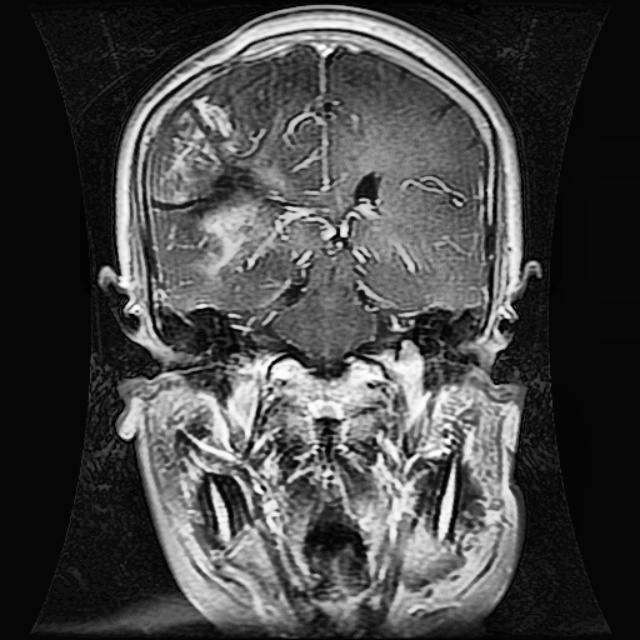Meningioma: (154, 95, 295, 273)
